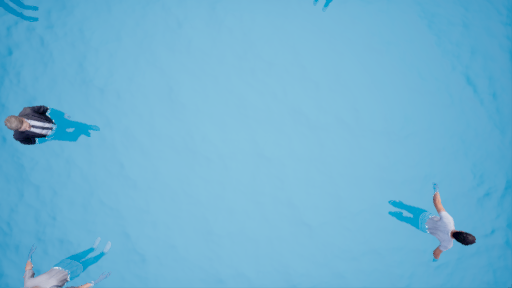person: (382, 190, 486, 261), (16, 233, 119, 288), (6, 98, 103, 148)
